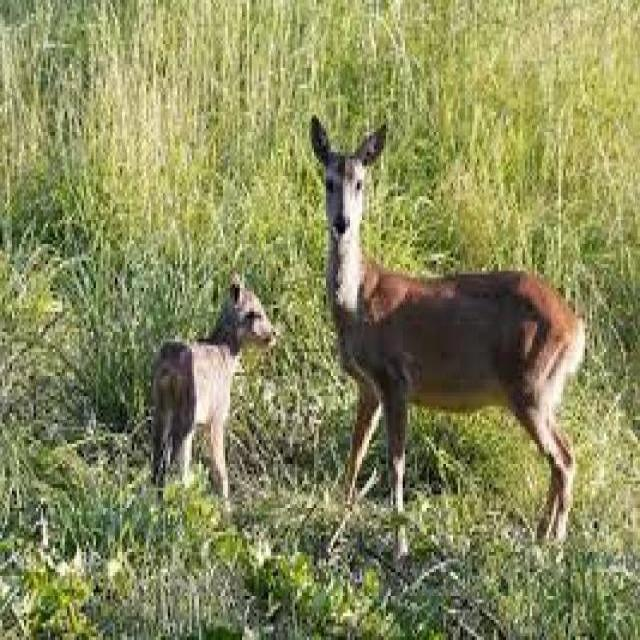deer: (307, 90, 589, 578), (129, 254, 293, 525)
